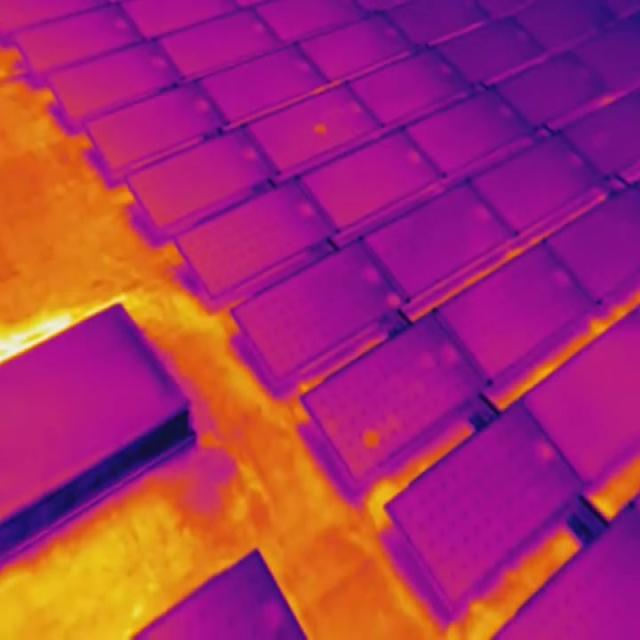Orange-Spots: (363, 423, 386, 448), (313, 121, 327, 135)
